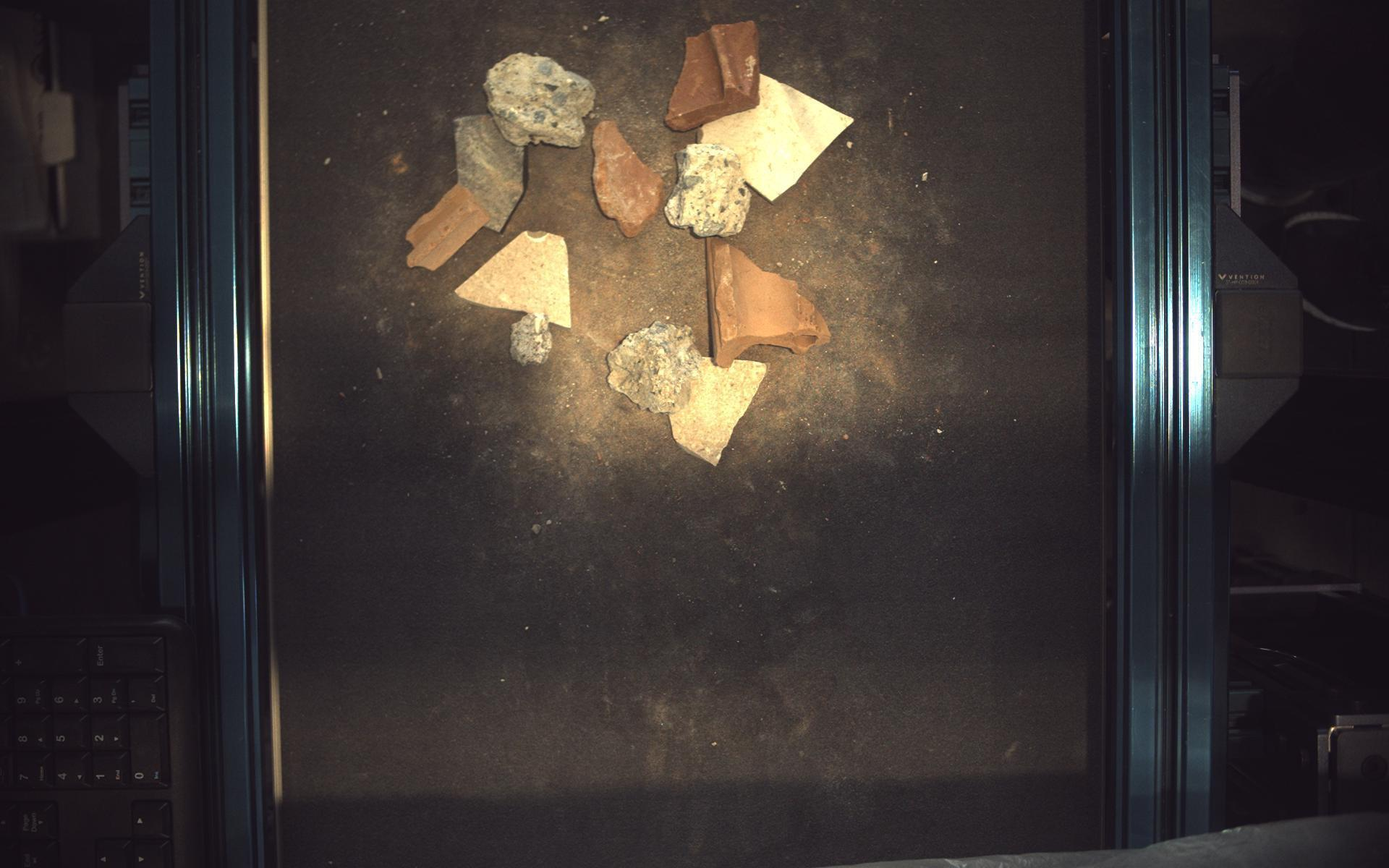brick: (707, 237, 832, 367), (666, 20, 760, 130), (593, 119, 664, 237), (406, 182, 490, 270)
concrete: (484, 51, 595, 146), (607, 321, 710, 414), (665, 143, 752, 237), (511, 312, 553, 365)
tile: (701, 73, 855, 200), (455, 232, 572, 328), (671, 357, 768, 466), (454, 114, 524, 231)
